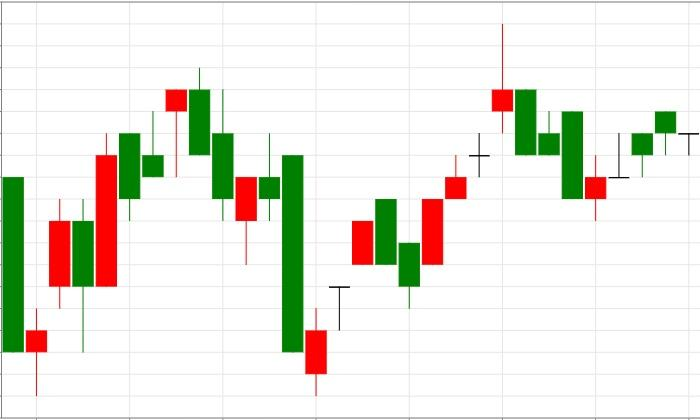bearish_engulfing_fall: (306, 199, 397, 396)
shooting_star_fall: (422, 23, 514, 266)
